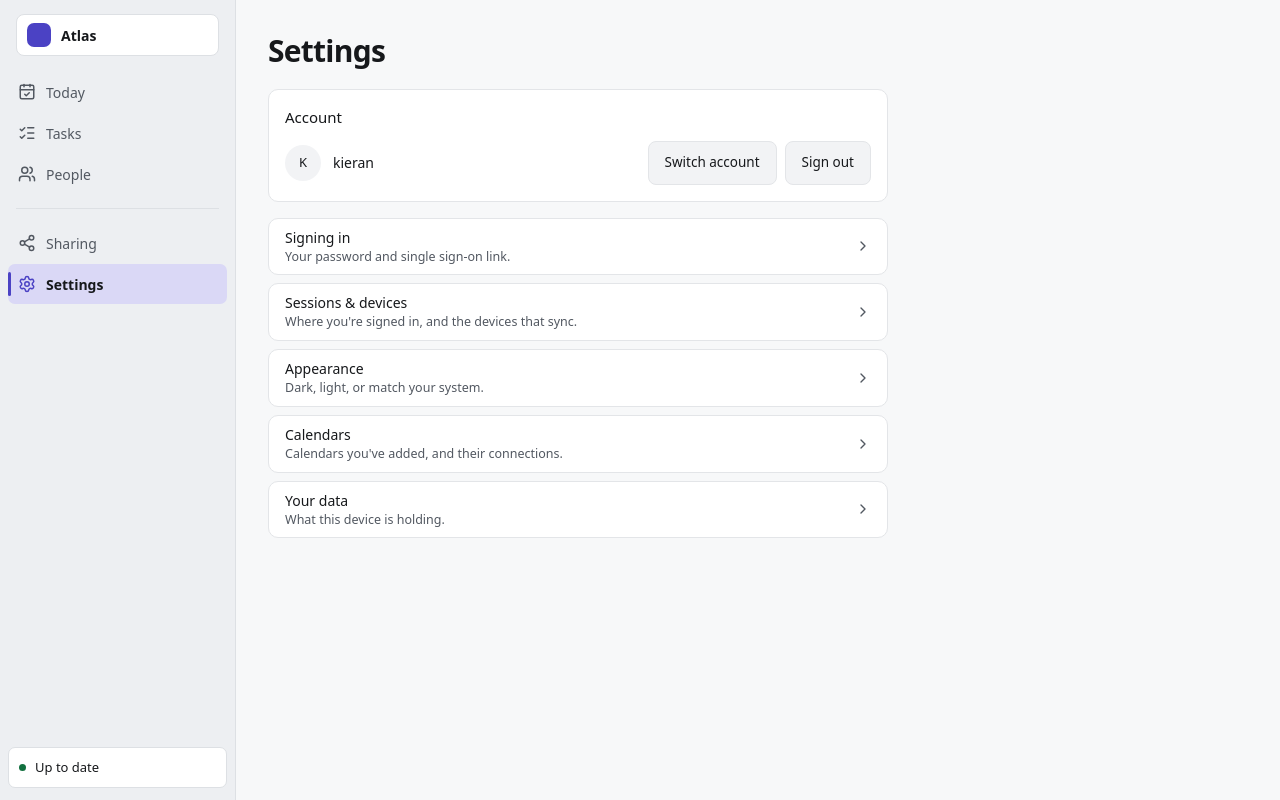
Test: the account card › Sign out opens the existing warning dialog
Expected: the heading "Settings" is shown, [268, 30, 385, 71]
Expected: the text "kieran" is shown, [332, 152, 481, 172]
What coordinates should you click on to do the following:
click the button "Sign out"
I would click on:
 (828, 162)
Its box is [785, 140, 871, 184].
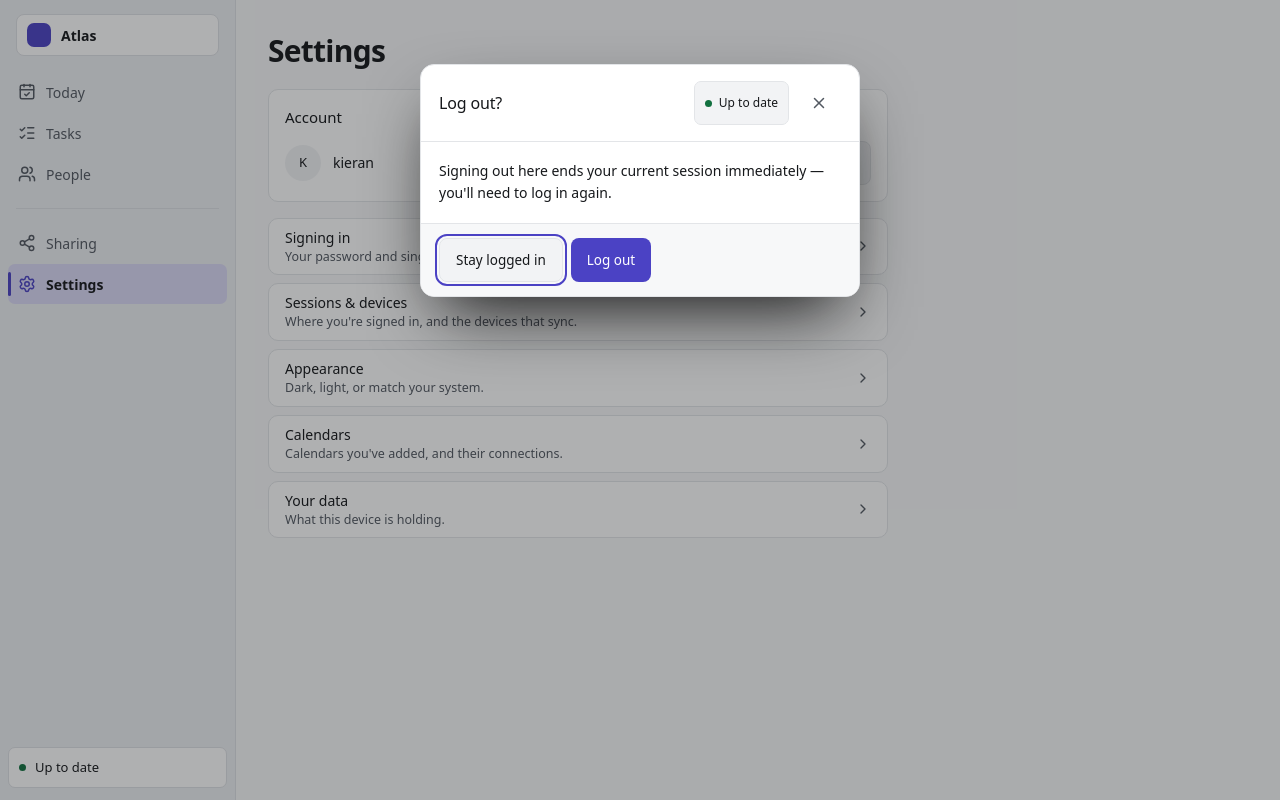
Result: the dialog "Log out?" is shown at [420, 64, 860, 297]
